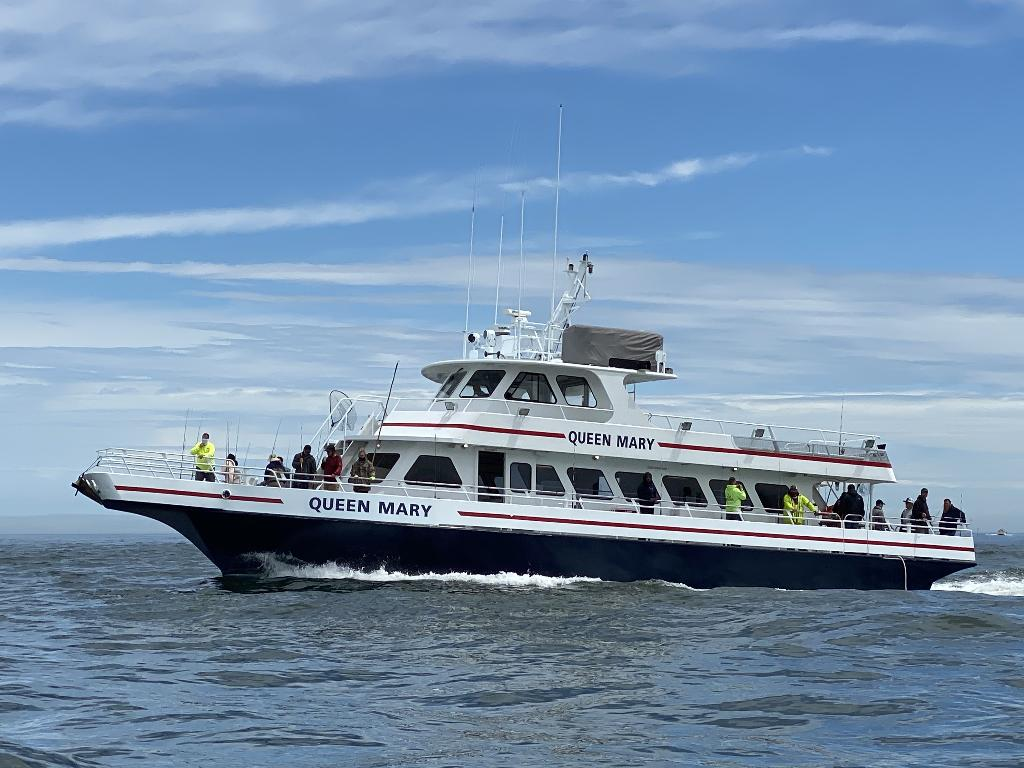PassengerShip: (57, 257, 981, 597)
